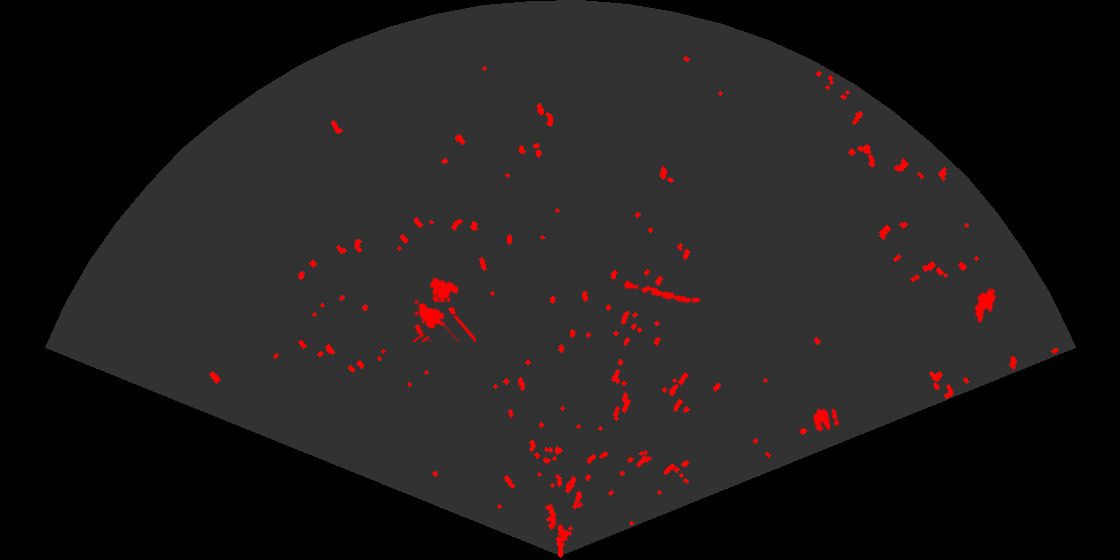AUV: (973, 286, 998, 325)
ball: (811, 407, 841, 434)
cage: (410, 276, 476, 342)
chain: (618, 279, 702, 305)
